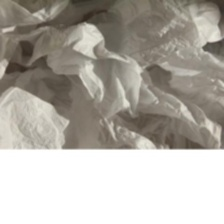tissue: (0, 0, 224, 149), (0, 82, 74, 148)
